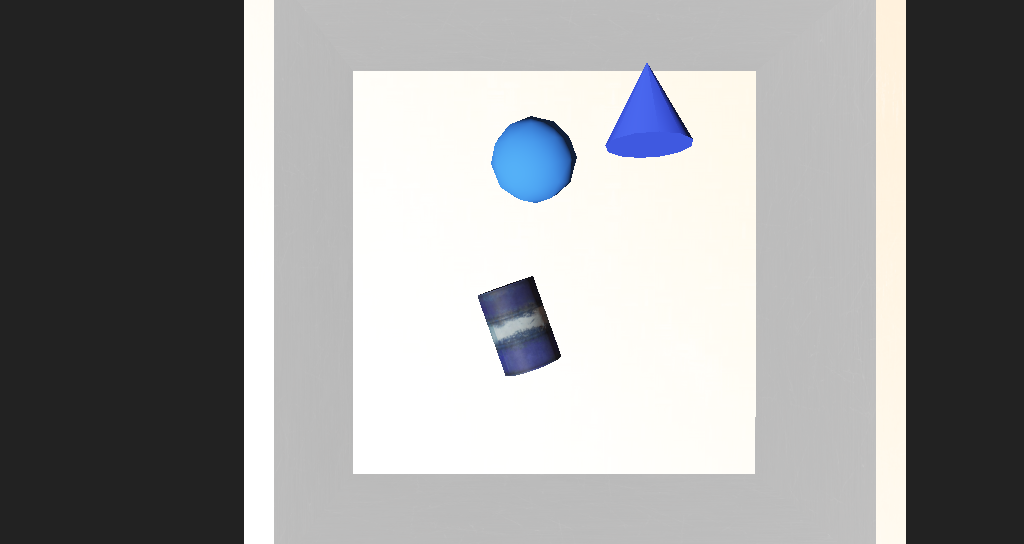cone: (445, 267, 512, 324)
cylinder: (539, 148, 606, 205)
sphere: (461, 186, 522, 234)
